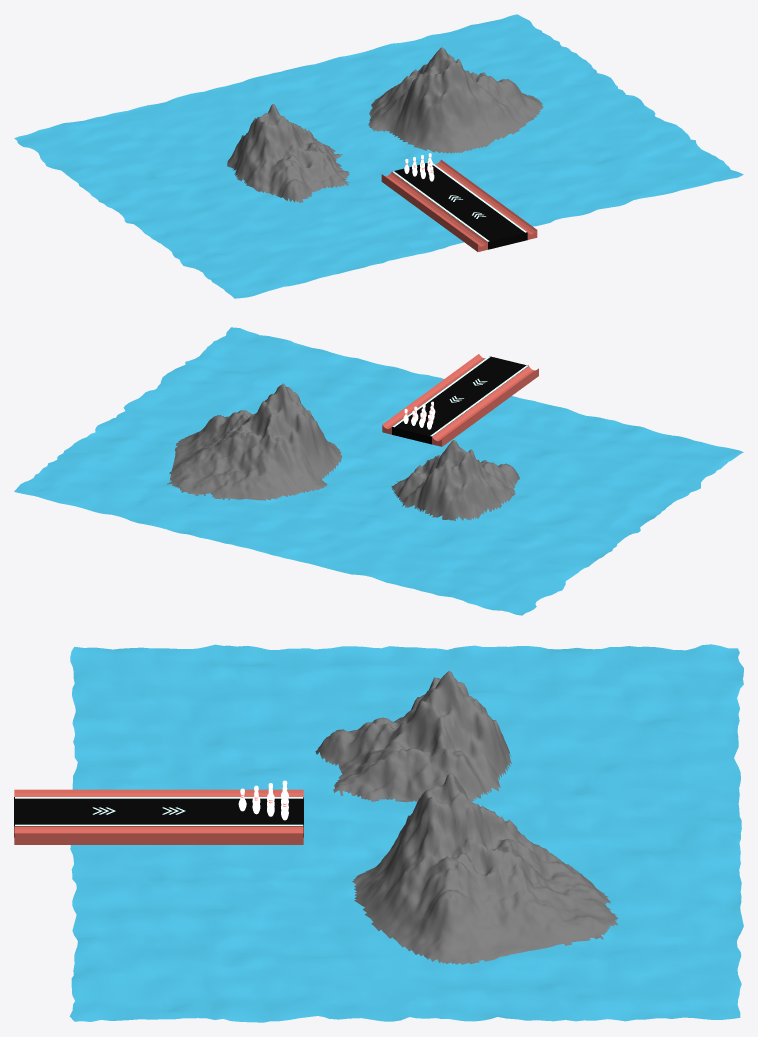
File: BowlingSet1.glb
The picture shows the model from 3 angles, top to bottom: view 1: azimuth 30°, elevation 25°; view 2: azimuth 150°, elevation 25°; view 3: azimuth 270°, elevation 25°; orthographic projection. The views are drawn at different scales.
Visible parts, largest first — view 1: Plane, Landscape.005, Landscape.001, Cube.001, Cube.002, Cube; view 2: Plane, Landscape.005, Landscape.001, Cube.001, Cube.002, Cube; view 3: Plane, Landscape.005, Landscape.001, Cube.001, Cube, Cube.002.
Boxes of the visible parts, x1,y1,x2,y2 form: Plane: (14, 14, 743, 298); Landscape.005: (368, 47, 543, 153); Landscape.001: (227, 104, 349, 202); Cube.001: (392, 163, 527, 249); Cube.002: (381, 172, 487, 251); Cube: (434, 159, 537, 239); Plane: (14, 327, 743, 615); Landscape.005: (167, 383, 341, 500); Landscape.001: (391, 440, 519, 520); Cube.001: (392, 356, 528, 444); Cube.002: (432, 366, 538, 446); Cube: (382, 354, 485, 434); Plane: (69, 644, 743, 1022); Landscape.005: (352, 772, 618, 964); Landscape.001: (315, 671, 511, 802); Cube.001: (14, 797, 303, 837); Cube: (14, 826, 303, 844); Cube.002: (14, 789, 303, 796).
Size of the model in its own units: 140 by 20.95 by 114.
